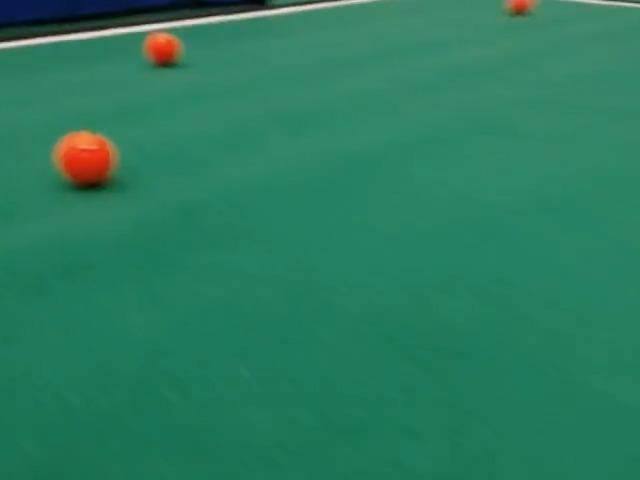Ball: (52, 131, 118, 187), (143, 32, 181, 66)
